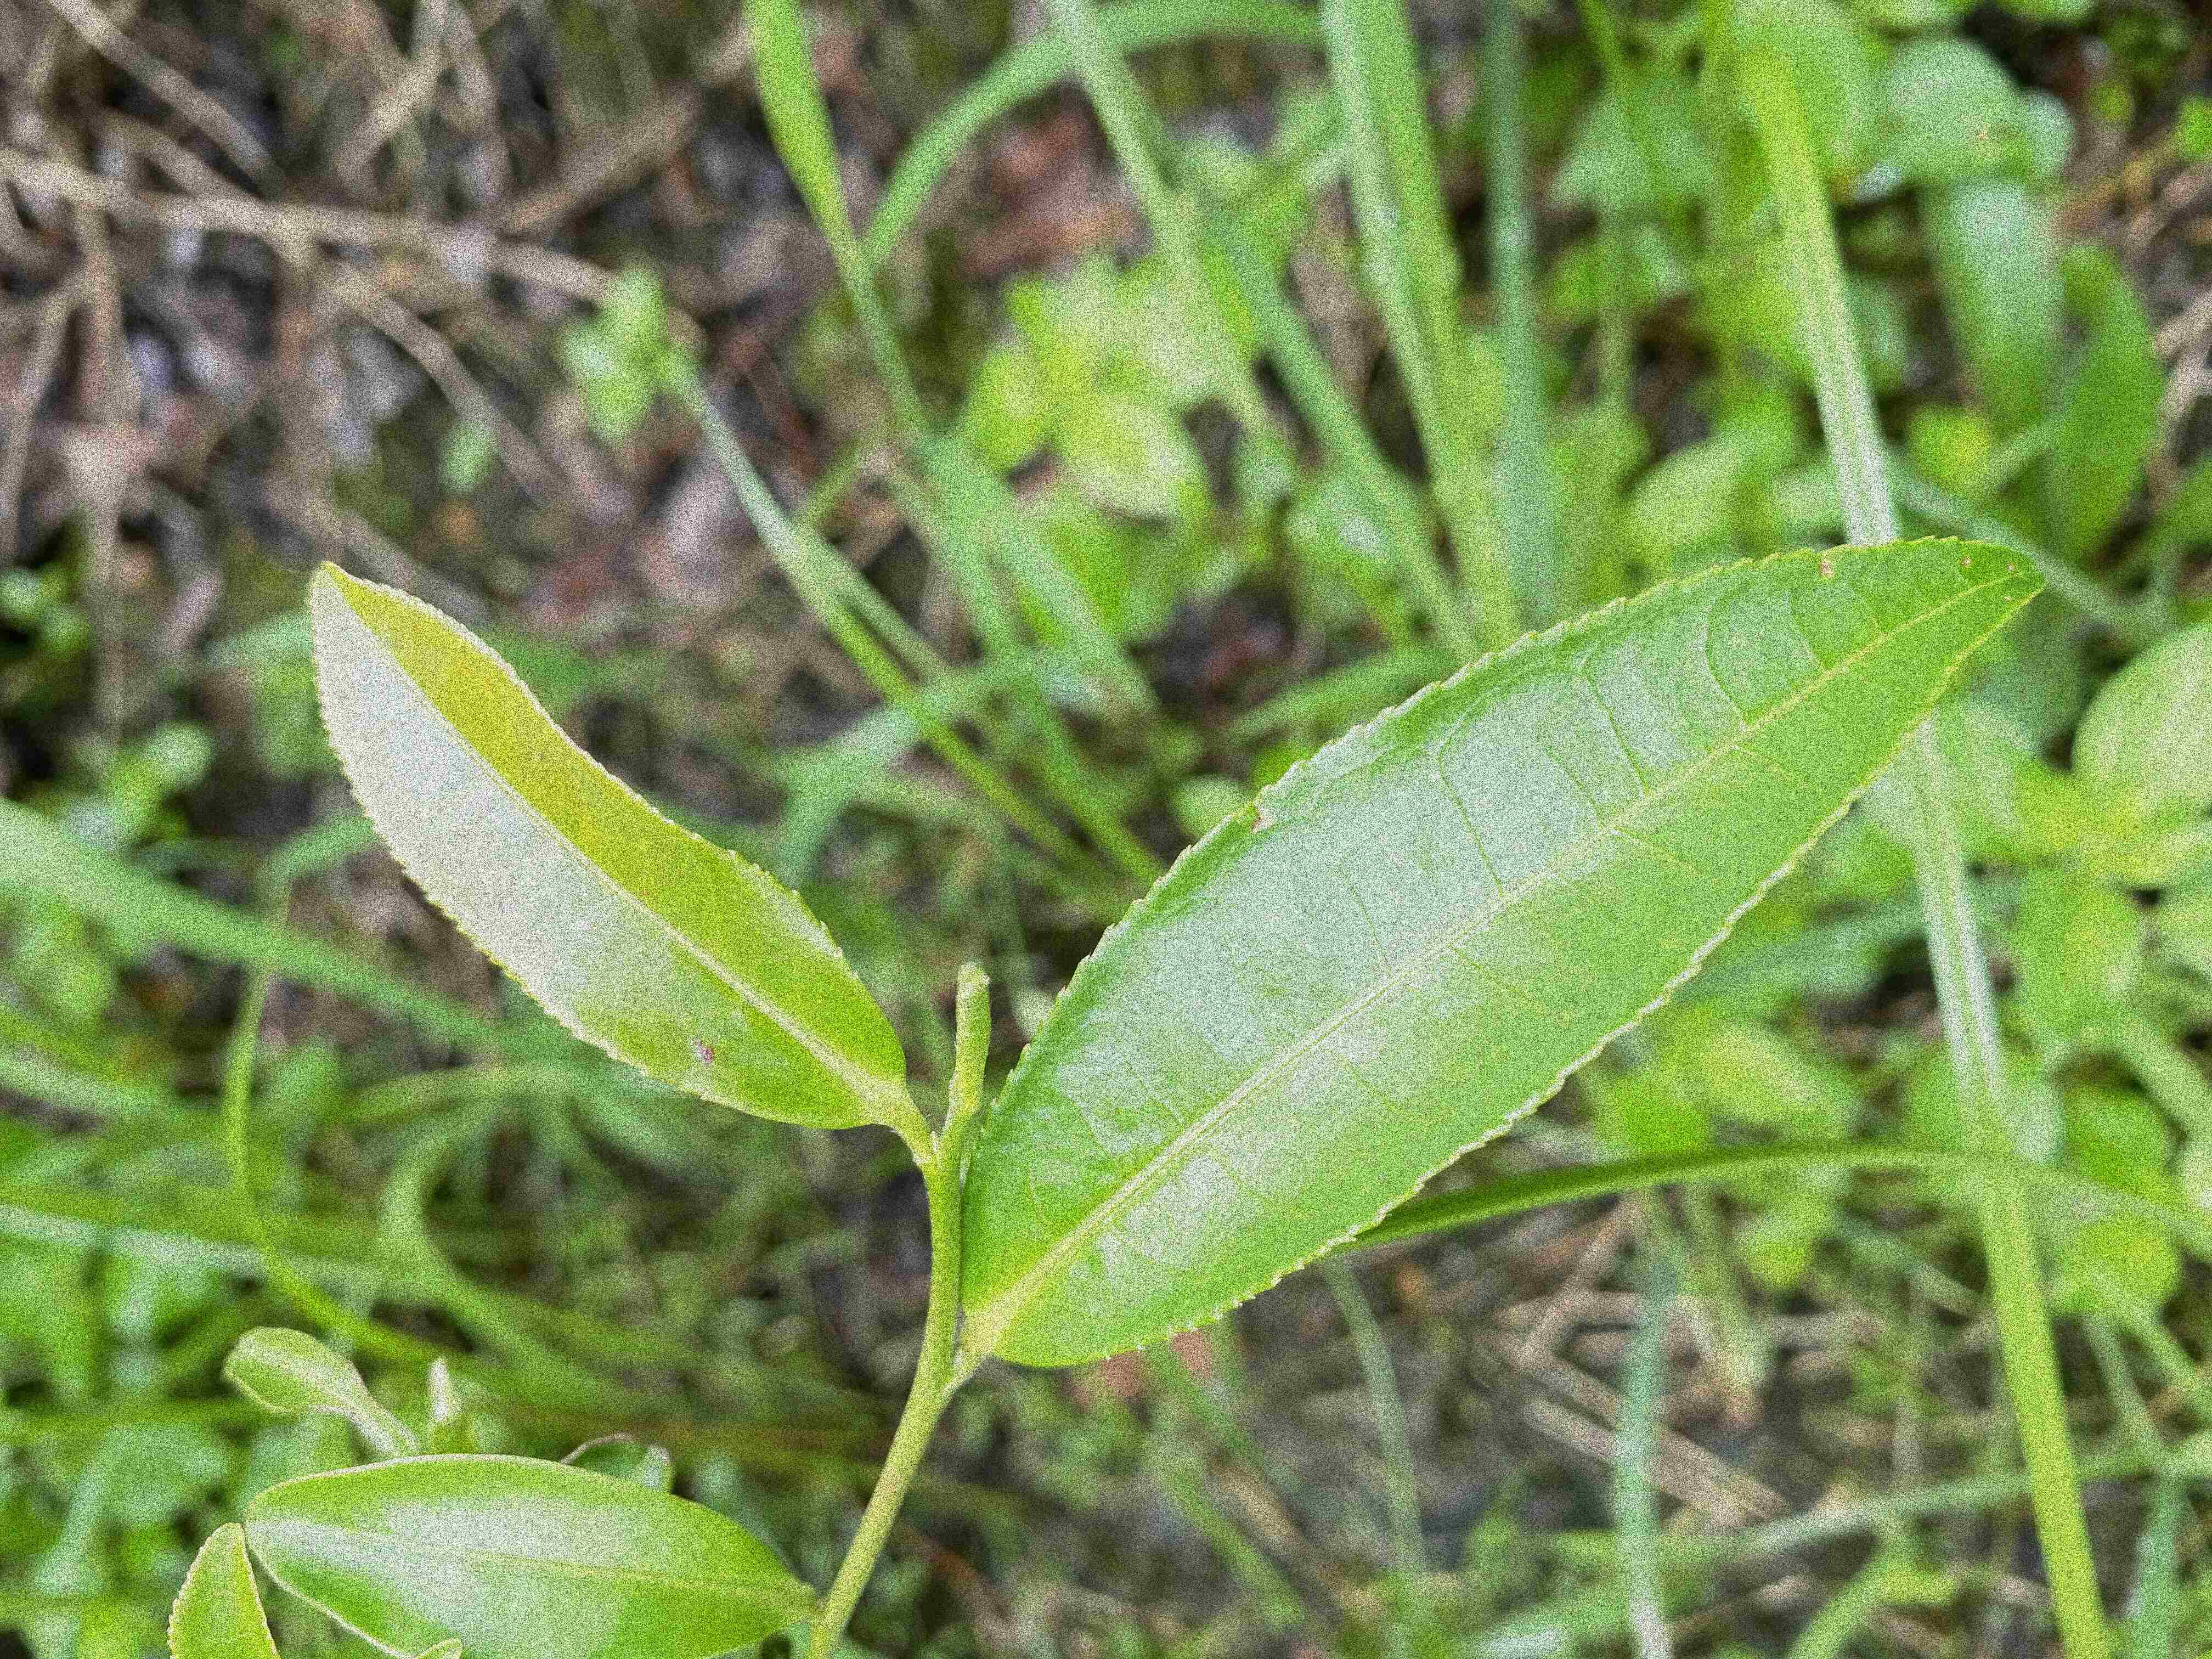healthy: (965, 537, 2043, 1364), (253, 1453, 826, 1654)
tanju_low: (308, 566, 916, 1133)
